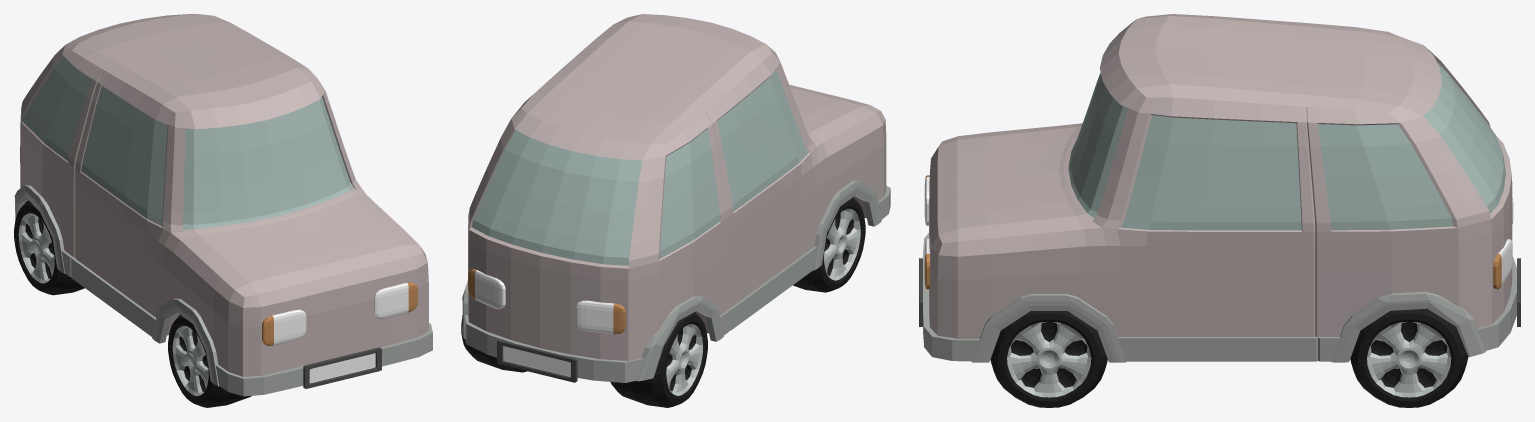
Rendered from car (1).fbx.
3 renders of one model, left to right at view 1: azimuth 30°, elevation 25°; view 2: azimuth 150°, elevation 25°; view 3: azimuth 270°, elevation 25°, orthographic. The views are drawn at different scales.
Parts seen in each view (by area): view 1: Cube, Cylinder.010, Cylinder.011, Cube.003, Cylinder.002, Cube.001, Cube.002, Cylinder.003; view 2: Cube, Cylinder.011, Cylinder.010, Cylinder.003, Cube.004, Cylinder.002, Cube.005, Cube.006, Cylinder.009; view 3: Cube, Cylinder.009, Cylinder.008, Cylinder.001, Cylinder, Cube.006.
Boxes of the visible parts, x1,y1,x2,y2 form: Cube: [20, 14, 432, 396]; Cylinder.010: [168, 315, 251, 407]; Cylinder.011: [14, 200, 84, 295]; Cube.003: [303, 347, 381, 388]; Cylinder.002: [152, 298, 219, 386]; Cube.001: [262, 309, 306, 345]; Cube.002: [374, 282, 417, 318]; Cylinder.003: [14, 184, 65, 273]; Cube: [464, 14, 890, 382]; Cylinder.011: [610, 312, 707, 407]; Cylinder.010: [793, 197, 865, 292]; Cylinder.003: [636, 295, 723, 381]; Cube.004: [497, 340, 577, 382]; Cylinder.002: [813, 180, 881, 270]; Cube.005: [576, 300, 625, 334]; Cube.006: [468, 269, 505, 309]; Cylinder.009: [461, 315, 526, 372]; Cube: [923, 14, 1516, 361]; Cylinder.009: [1350, 308, 1468, 407]; Cylinder.008: [990, 311, 1107, 407]; Cylinder.001: [1331, 291, 1485, 362]; Cylinder: [971, 294, 1126, 362]; Cube.006: [1493, 239, 1512, 289].
Size of the model in its own units: 379 by 463 by 816.
